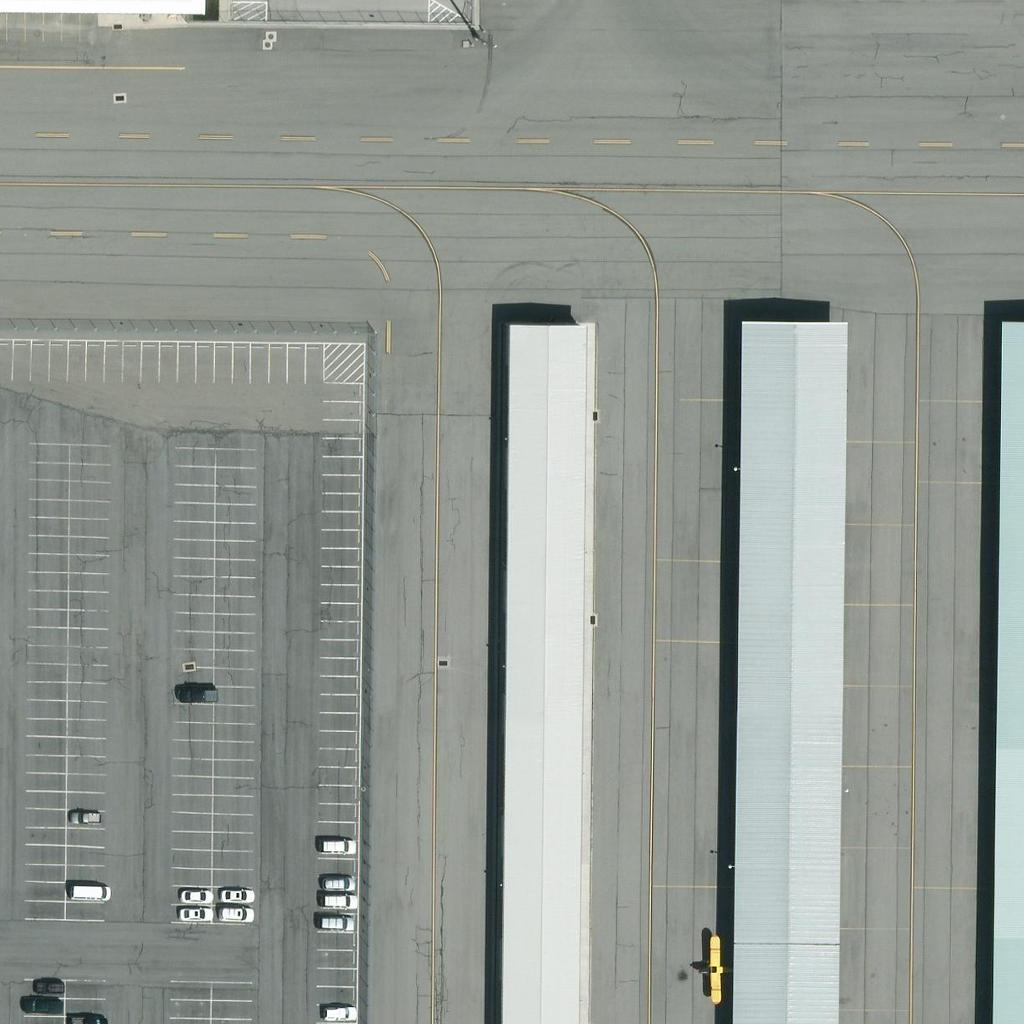car: (179, 676, 213, 710), (179, 677, 213, 711), (65, 799, 99, 833), (321, 828, 355, 862), (321, 865, 355, 899), (78, 873, 112, 907), (218, 876, 252, 910), (179, 878, 213, 912), (323, 883, 357, 917), (177, 894, 211, 928), (220, 894, 254, 928), (318, 905, 352, 939), (27, 968, 61, 1002), (24, 986, 58, 1020), (322, 995, 356, 1024), (74, 1004, 108, 1024)
